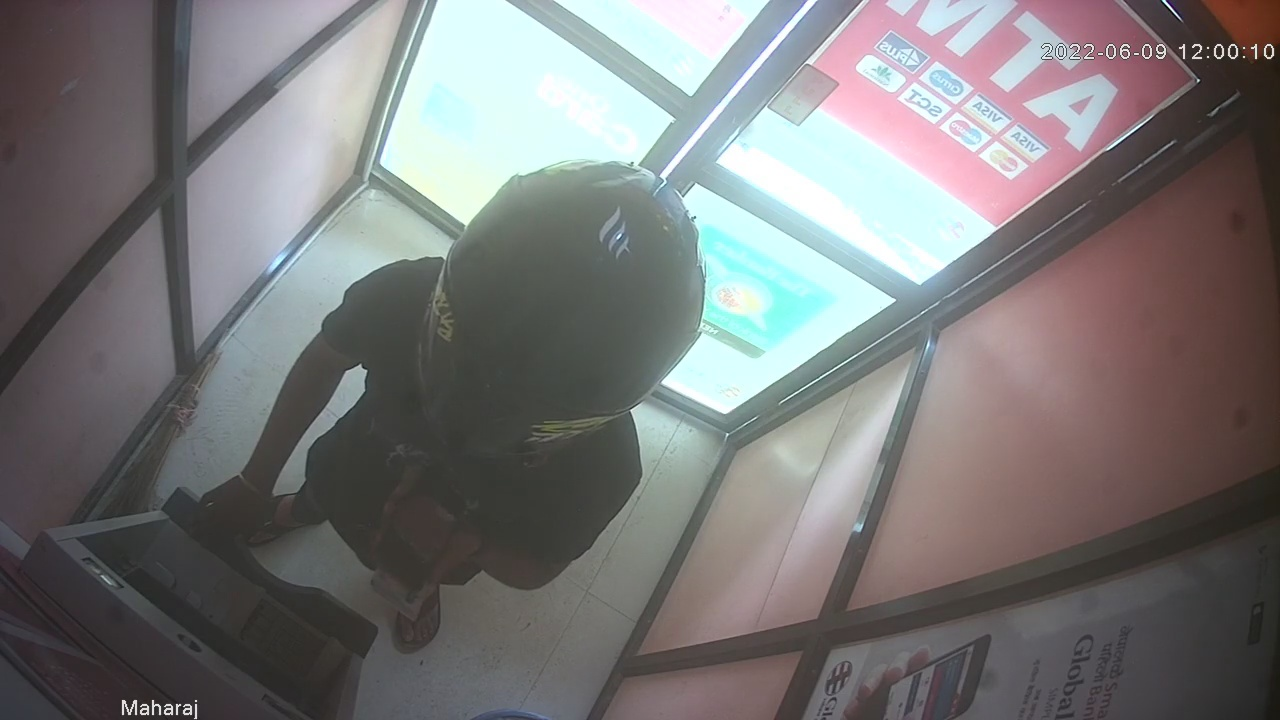helmet: (416, 159, 703, 455)
person: (190, 157, 708, 654)
